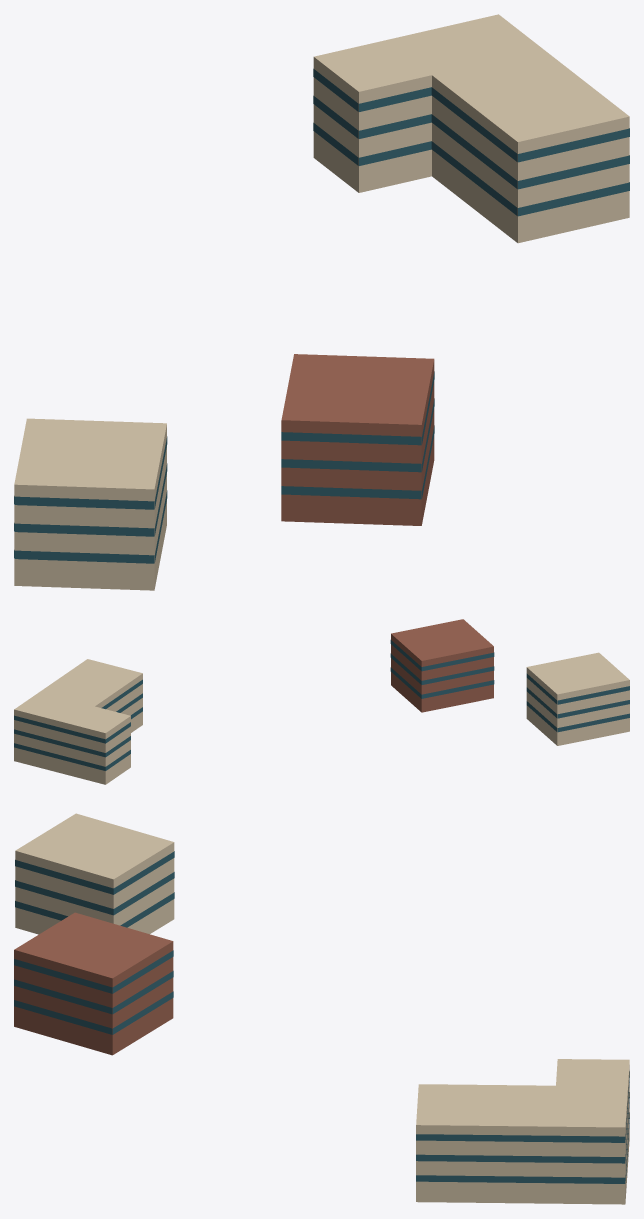
The model's file is city_8_3.glb.
3 renders of one model, top to bottom at view 1: azimuth 30°, elevation 25°; view 2: azimuth 150°, elevation 25°; view 3: azimuth 270°, elevation 25°, orthographic. The views are drawn at different scales.
Visible parts, largest first — view 1: city_8_3; view 2: city_8_3; view 3: city_8_3.
Part boxes in pixels (box(x1,y1,x2,y2)): city_8_3: box(14, 14, 629, 590); city_8_3: box(14, 619, 629, 784); city_8_3: box(14, 813, 629, 1204).
Bounding box in the file's own units: 131 × 15 × 109.
